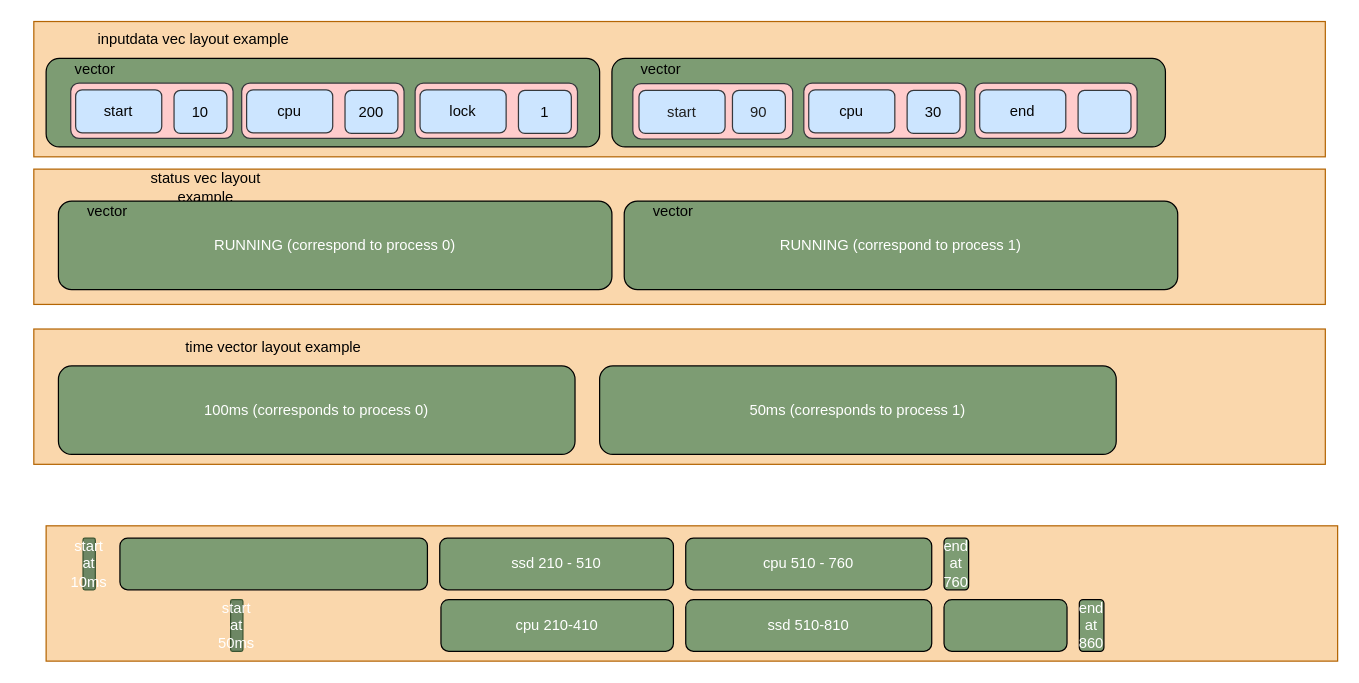
Image size: 1359x683. Some labels were removed from this diagram. Each missing label, with the box of its shape:
cpu 10-210: (119, 537, 427, 590)
cpu 760 - 860: (943, 598, 1067, 651)
